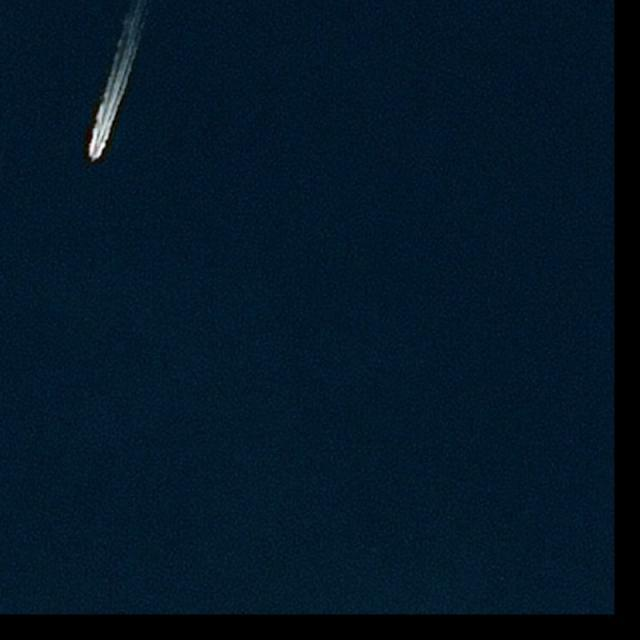ship: (90, 146, 100, 162)
